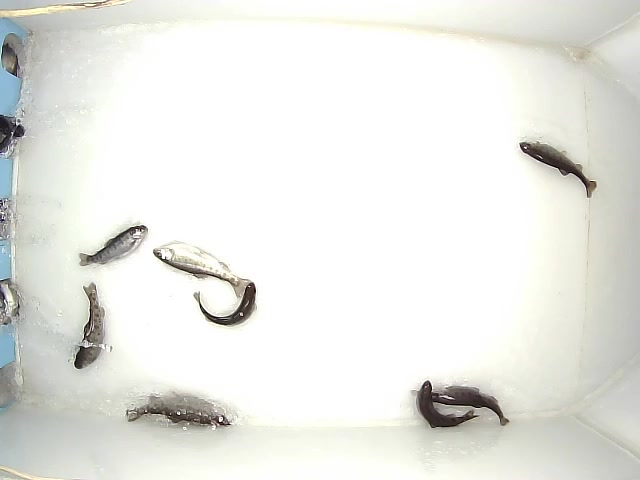fish: (152, 238, 251, 298), (518, 140, 598, 200), (124, 388, 233, 432), (409, 379, 479, 430), (77, 223, 149, 270), (431, 385, 511, 427), (71, 282, 107, 371), (194, 283, 258, 329)
